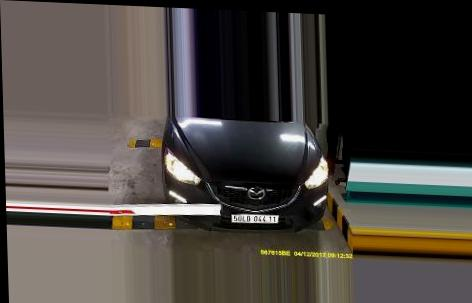License_Plate: (230, 210, 280, 224)
